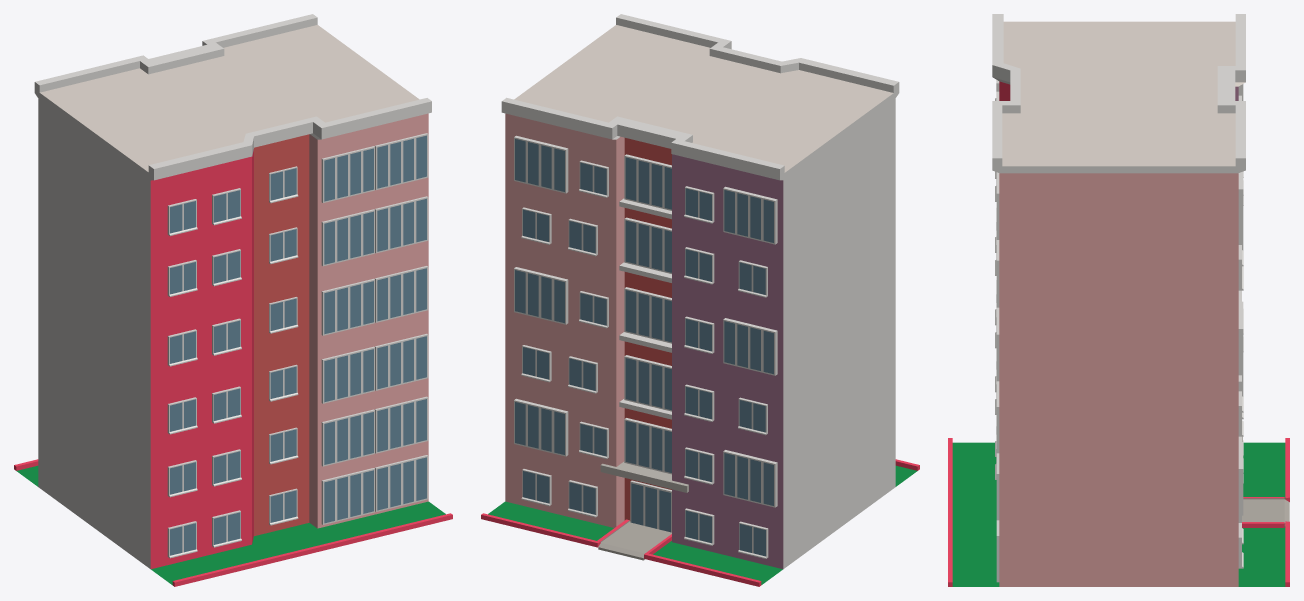
The model's file is apartment_middle_Highfbx.fbx.
The picture shows the model from 3 angles, left to right: view 1: azimuth 30°, elevation 25°; view 2: azimuth 150°, elevation 25°; view 3: azimuth 270°, elevation 25°; orthographic projection. The views are drawn at different scales.
Visible parts, largest first — view 1: Appartment, Ground; view 2: Appartment, Ground; view 3: Appartment, Ground.
Boxes of the visible parts, box(x1,y1,x2,y2) form: Appartment: box(34, 14, 431, 569); Ground: box(14, 459, 452, 586); Appartment: box(501, 14, 899, 569); Ground: box(481, 459, 919, 586); Appartment: box(992, 14, 1245, 586); Ground: box(948, 438, 1289, 586).
Bounding box in the file's own units: 20 × 27.8 × 20.
